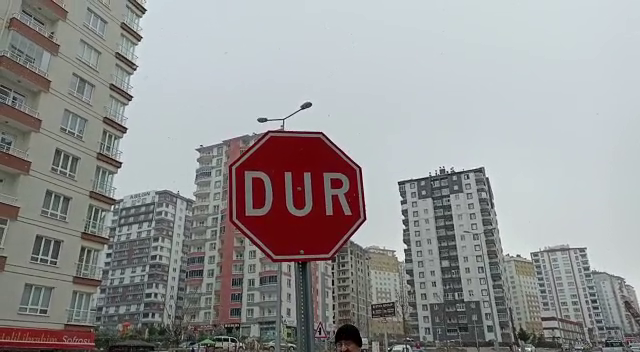stop: (227, 129, 369, 264)
